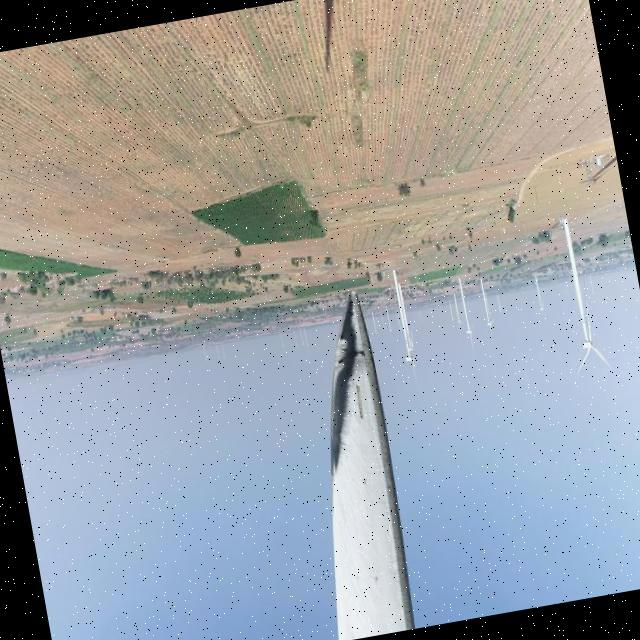Dirt: (328, 297, 414, 640)
Oil LEAKAGE: (330, 293, 361, 463)
Pin Hole: (337, 348, 370, 367), (366, 568, 385, 583), (360, 474, 374, 487)
